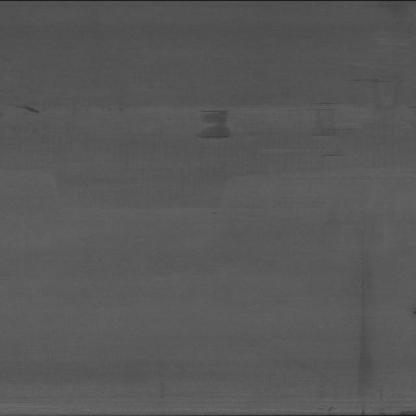rolled_pit: (186, 100, 248, 146)
